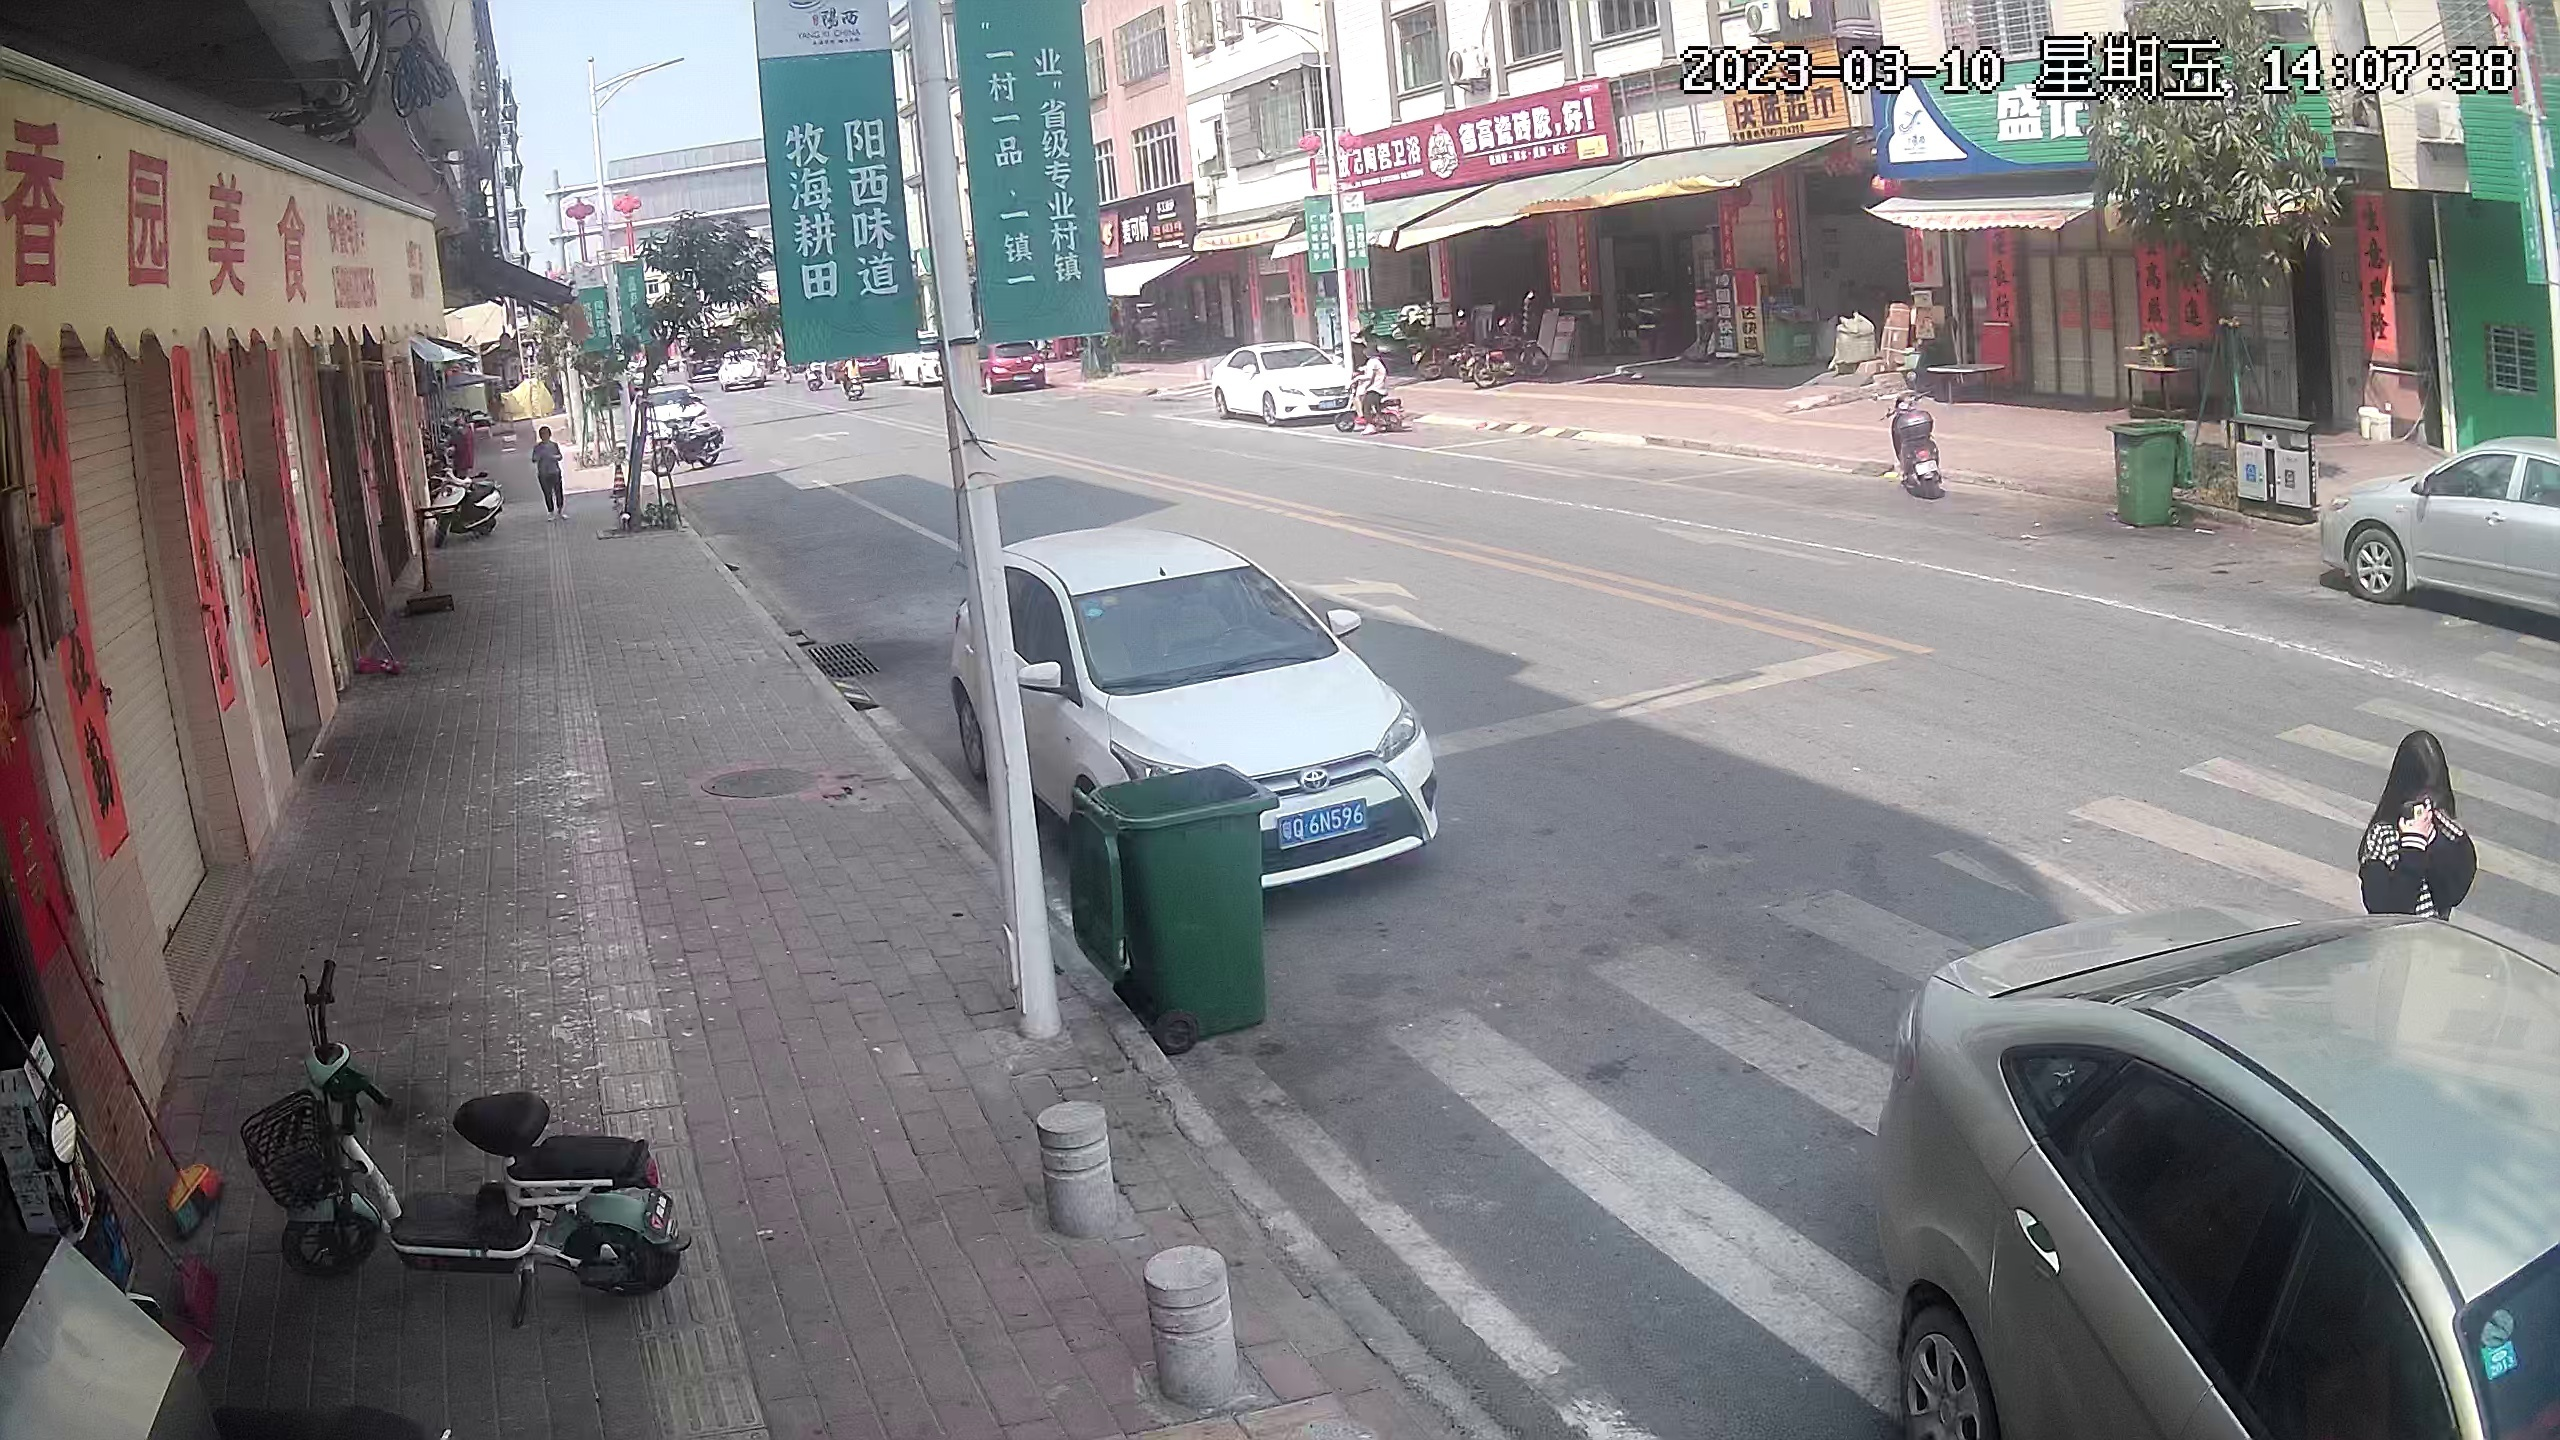head: (2343, 720, 2477, 877)
motorcycle: (258, 965, 683, 1304), (1883, 380, 1945, 504), (430, 459, 509, 550), (1340, 347, 1404, 437), (1470, 319, 1547, 393), (654, 424, 725, 477), (1414, 322, 1467, 387)
person: (528, 419, 574, 527)
sedan: (1900, 915, 2560, 1440), (942, 542, 1448, 887), (2329, 419, 2560, 649), (1208, 344, 1349, 432), (630, 384, 705, 425), (898, 344, 948, 387)
suv: (969, 338, 1054, 402), (720, 347, 768, 397)
